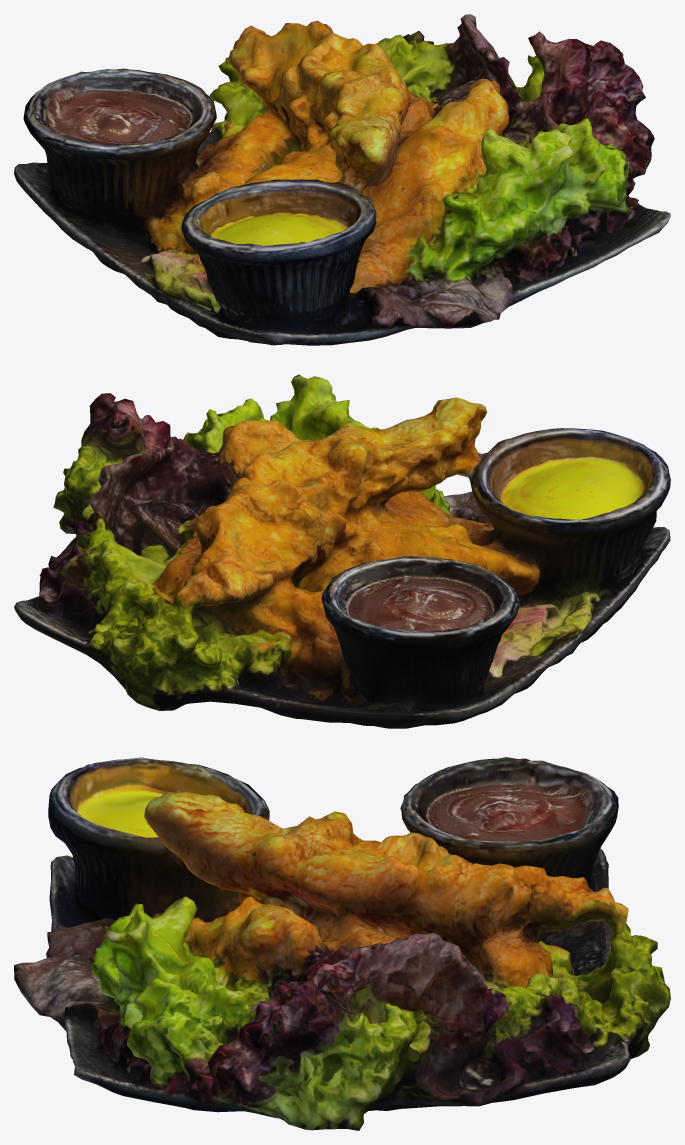
Rendered from chickenTender_1752057967758.glb.
3 views of the same model, one above another, from view 1: azimuth 30°, elevation 25°; view 2: azimuth 150°, elevation 25°; view 3: azimuth 270°, elevation 25° (orthographic). The views are drawn at different scales.
Visible parts, largest first — view 1: 3DModel_Custom; view 2: 3DModel_Custom; view 3: 3DModel_Custom.
Part boxes in pixels (box(x1,y1,x2,y2)): 3DModel_Custom: box(14, 14, 670, 345); 3DModel_Custom: box(14, 374, 670, 728); 3DModel_Custom: box(14, 757, 670, 1130).
Size of the model in its own units: 0.2158 by 0.0775 by 0.2113.
Materials: 1 (1 with a texture image).
